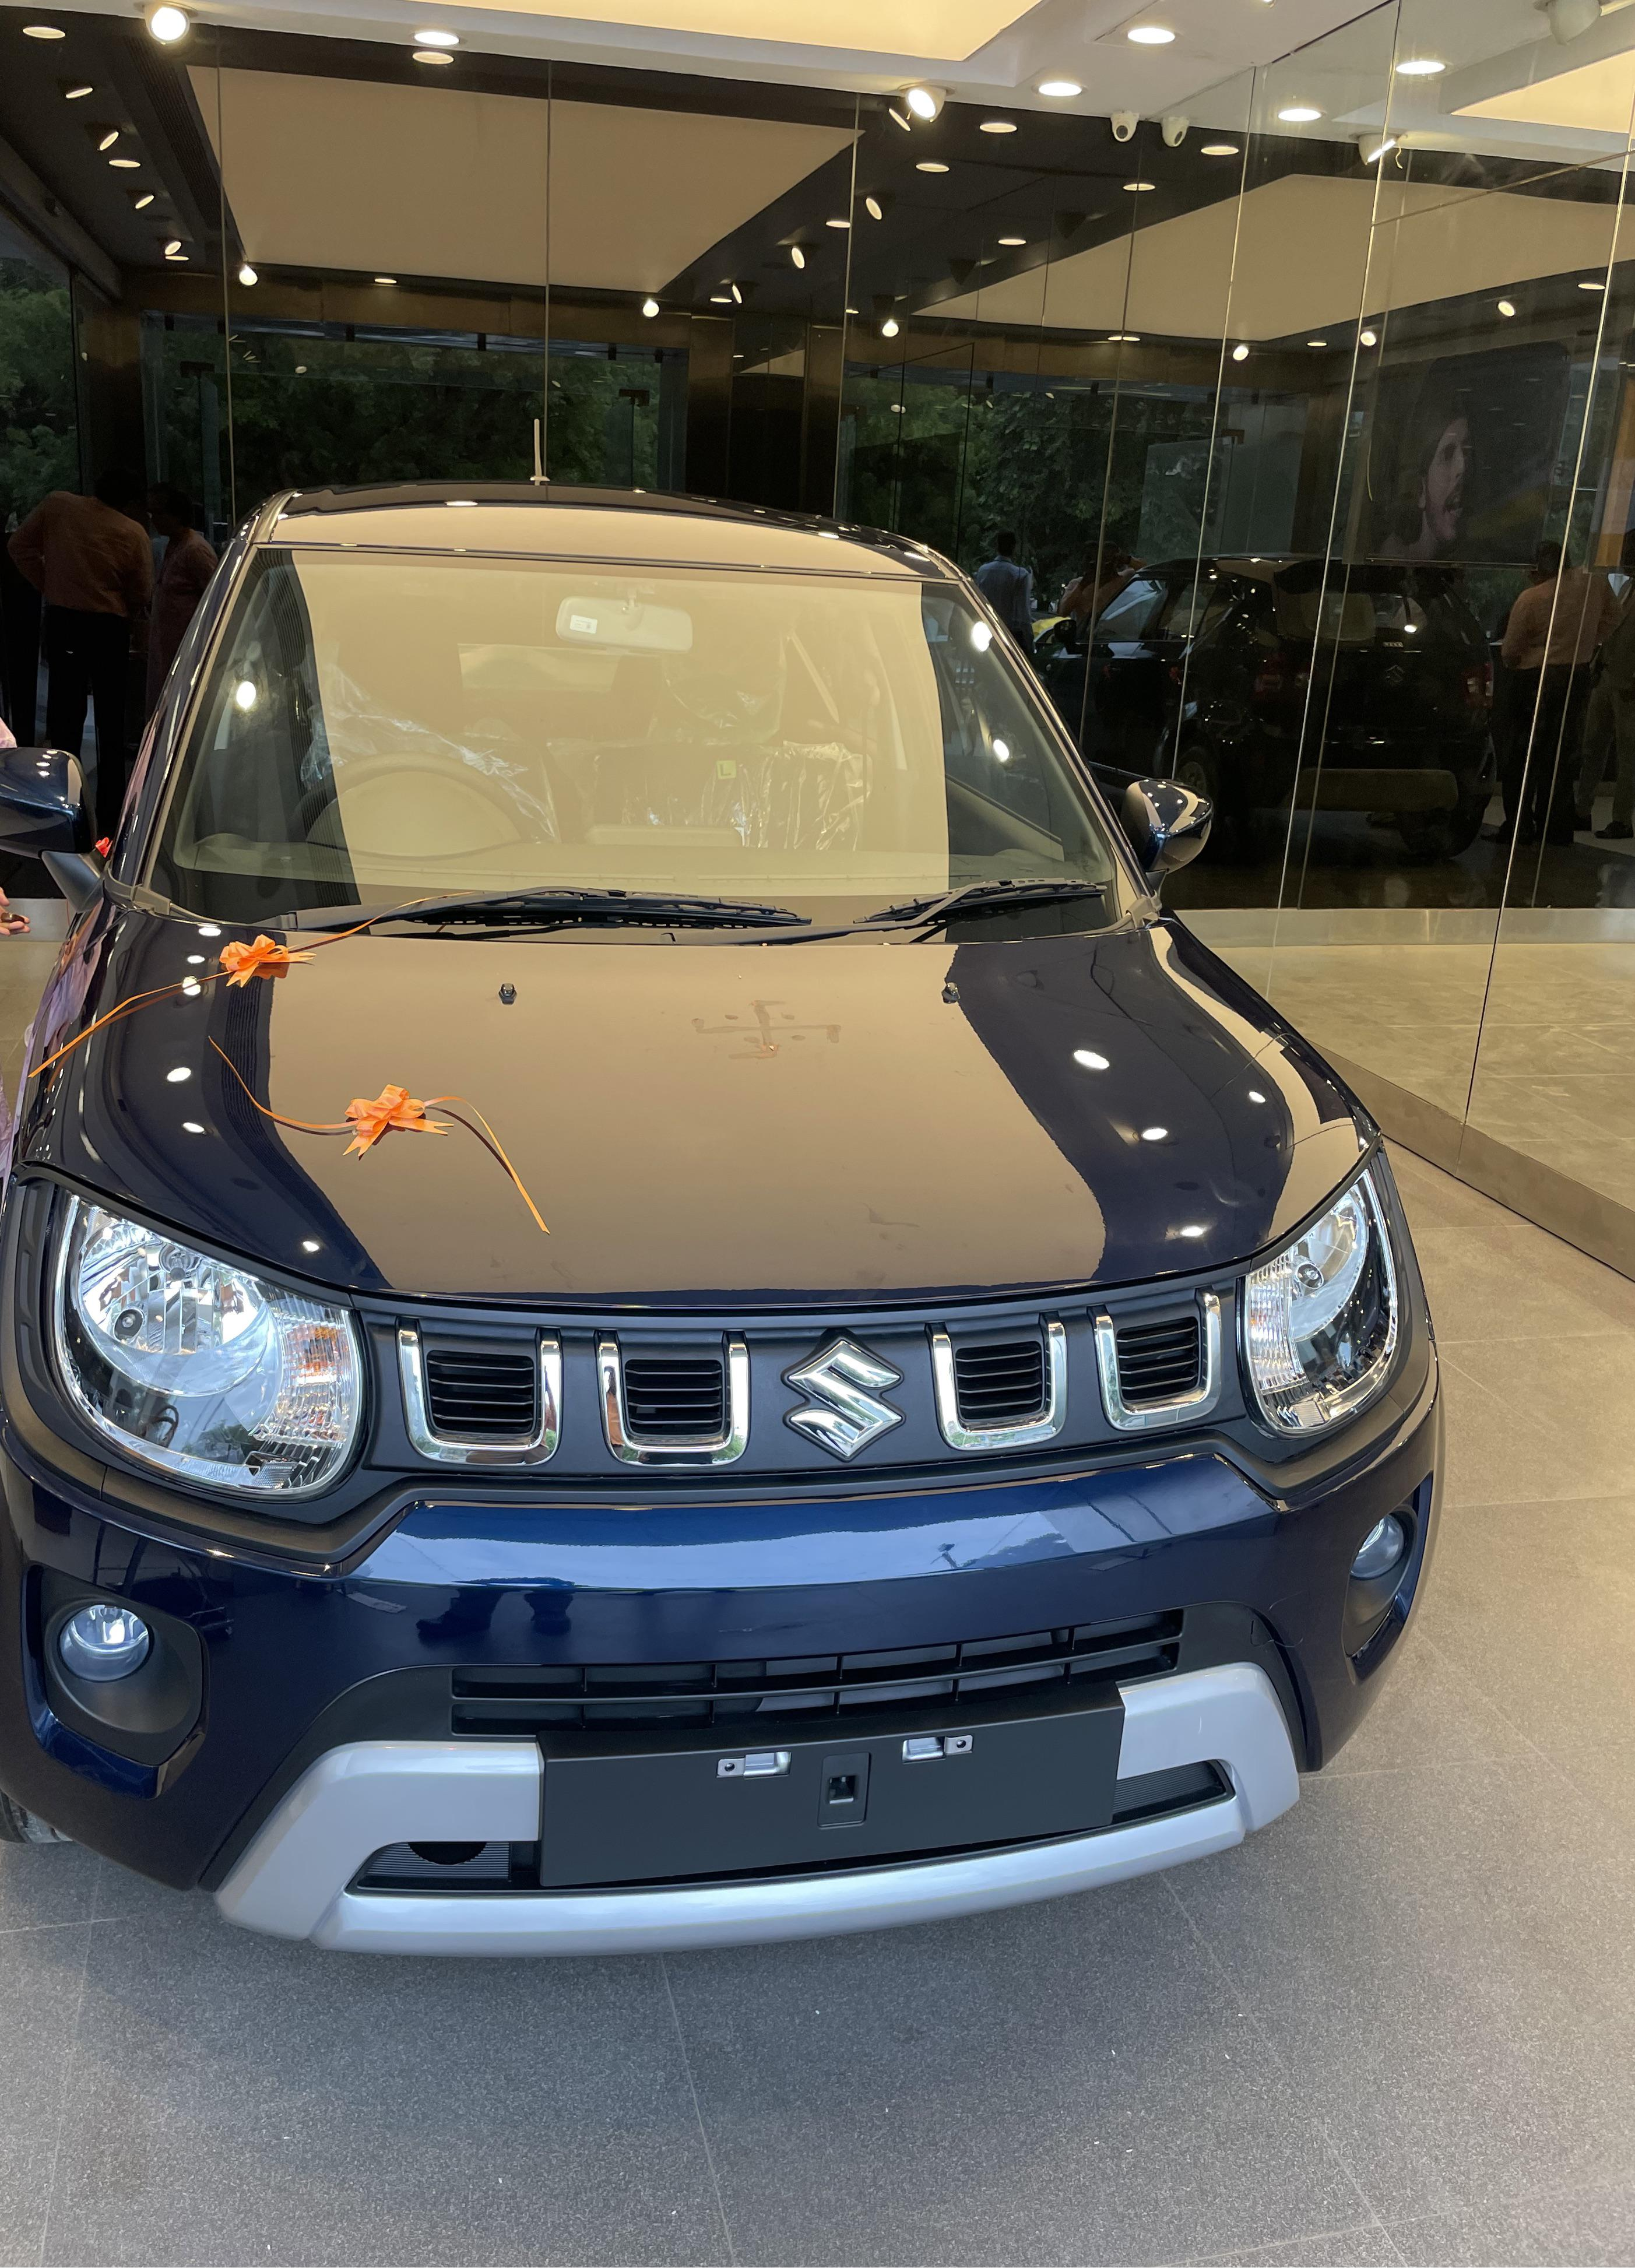car: (16, 444, 1461, 1995)
